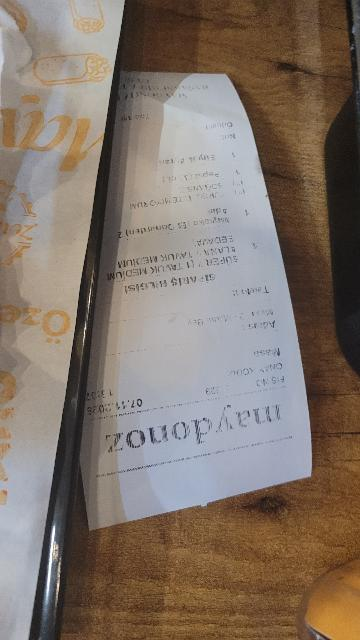Kagit: (55, 56, 325, 534)
